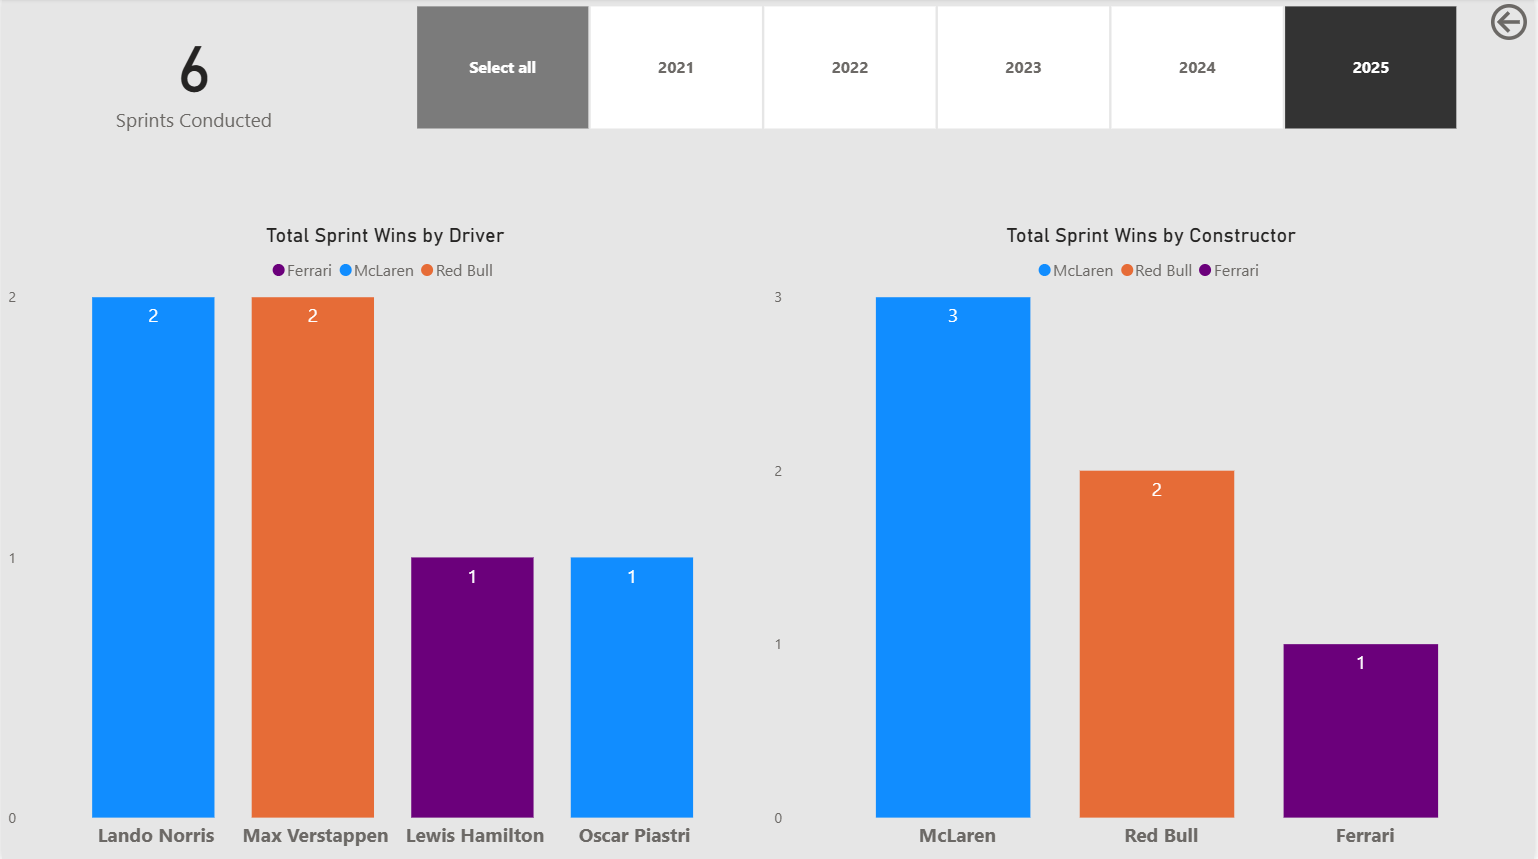

The dashboard page shown, as its layout file describes it:
{"tool":"powerbi","page":{"name":"Sprints","canvas":[1280,720],"ordinal":2},"visuals":[{"type":"columnChart","title":"Total Sprint Wins by Driver","fields":{"Category":["Drivers.DriverName"],"Y":["Sum(SprintResults.position)"],"Series":["Constructors.ConstructorName"]},"box":[0,188,640,532],"z":0},{"type":"slicer","fields":{"Values":["Seasons.year"]},"box":[320.6,0,918.3,115.8],"z":1000},{"type":"columnChart","title":"Total Sprint Wins by Constructor","fields":{"Category":["Constructors.ConstructorName"],"Y":["Sum(SprintResults.position)"],"Series":["Constructors.ConstructorName"]},"box":[640,188,640,532],"z":2000},{"type":"card","fields":{"Values":["Count(SprintResults.raceId)"]},"box":[0,0,320.6,125.8],"z":3000},{"type":"actionButton","box":[1238.8,0,41.2,40.1],"z":4000}]}

Visuals, with their boxes in screenshot pixels (x1, y1, x2, y2), scaled from the page's 1280x720 canvas onto the 1538x859 screenshot:
"Total Sprint Wins by Driver" columnChart: rect(0, 224, 769, 858)
slicer - Seasons.year: rect(385, 0, 1489, 138)
"Total Sprint Wins by Constructor" columnChart: rect(769, 224, 1537, 858)
card - Count(SprintResults.raceId): rect(0, 0, 385, 150)
actionButton: rect(1488, 0, 1537, 48)
